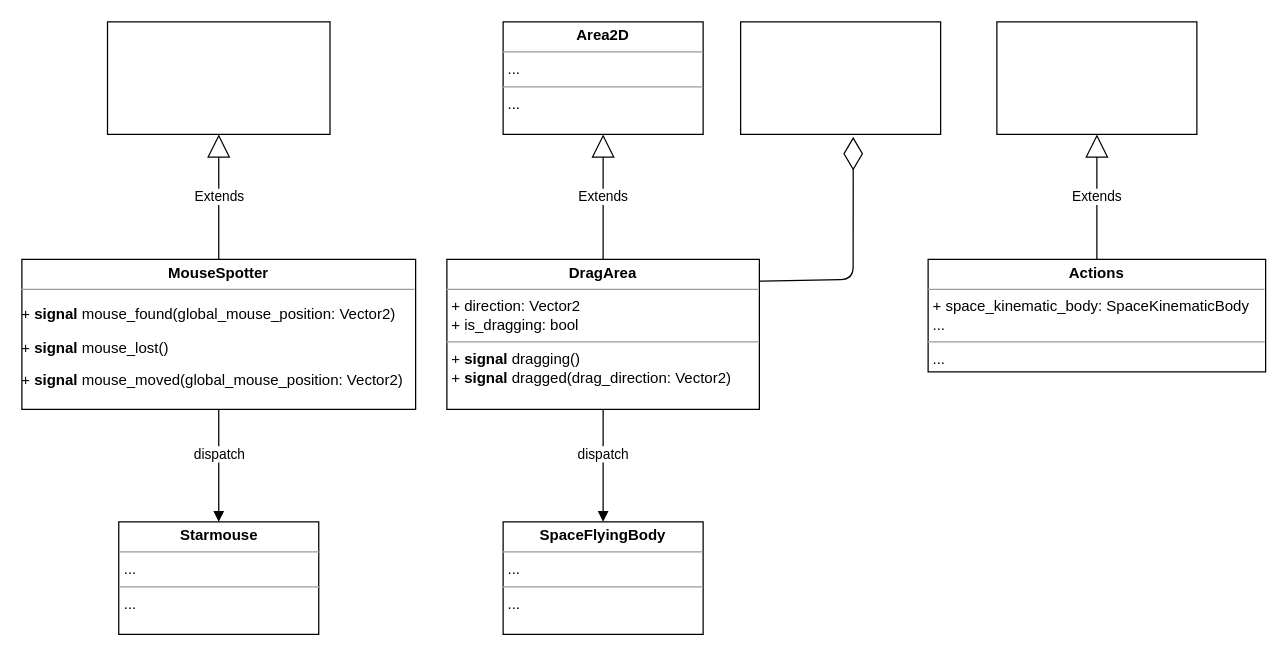
Image size: 1288x656. Some labels were removed from this diagram. Here are the shapes that lost their labels. From the top down, the centre of each, then its label:
At point 218,77: "Node2D ... ...".
At point 840,77: "CollisionShape2D ... ...".
At point 1096,77: "Node ... ...".
